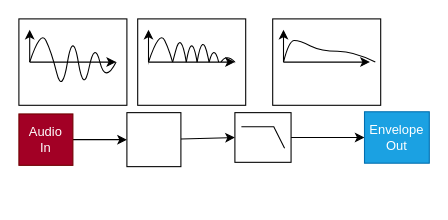
This 448x220 diagram has some shape labels left out. Each missing label, with the centre of its shape:
"abs(x)" goes at [153,139].
"First order IIR Filter 20Hz" goes at [262,137].
